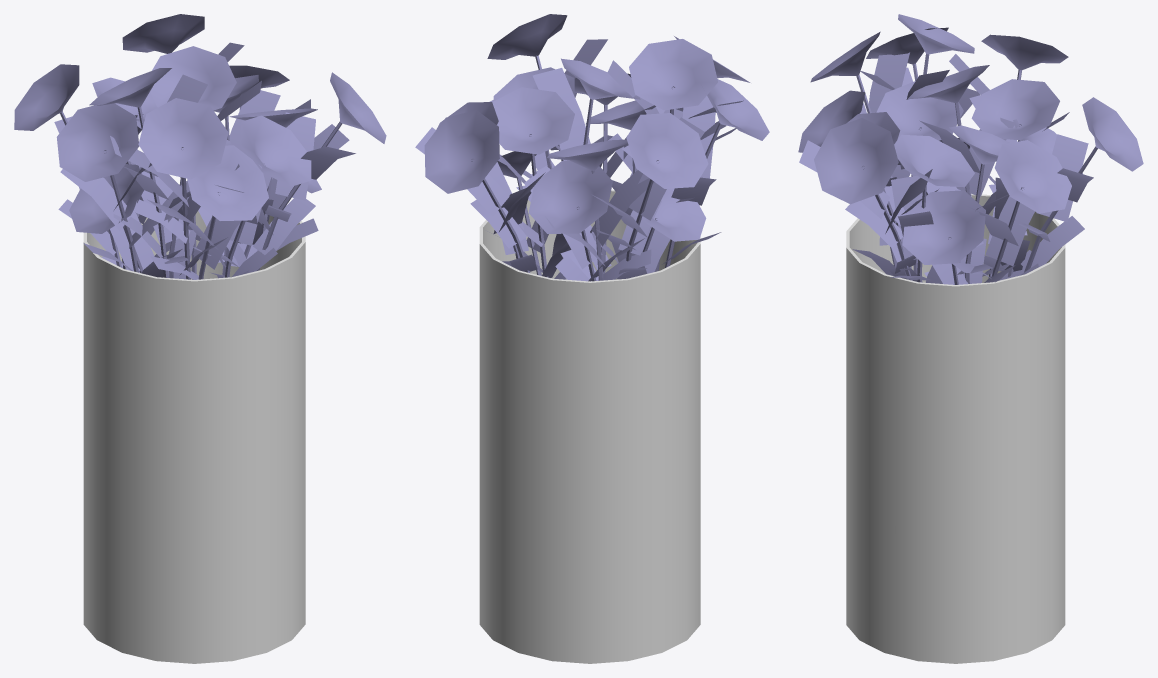
The model's file is BottleFlower.FBX.
The picture shows the model from 3 angles, left to right: view 1: azimuth 30°, elevation 25°; view 2: azimuth 150°, elevation 25°; view 3: azimuth 270°, elevation 25°; orthographic projection.
Parts seen in each view (by area): view 1: BottleFlower; view 2: BottleFlower; view 3: BottleFlower.
Part boxes in pixels (x1,y1,x2,y2): BottleFlower: [14, 14, 386, 663]; BottleFlower: [415, 14, 769, 663]; BottleFlower: [798, 14, 1143, 663].
Size of the model in its own units: 21.1 by 21.75 by 39.44.
